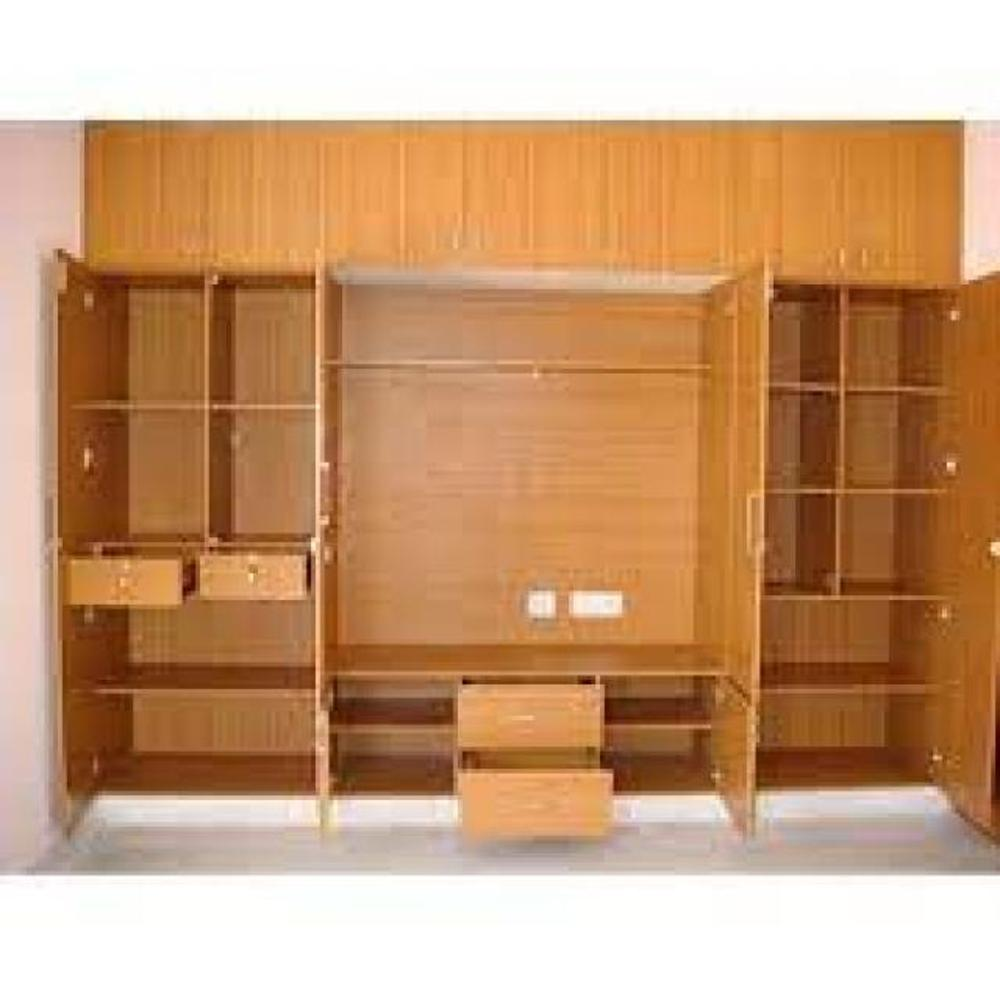cabinet: (2, 124, 1000, 860)
